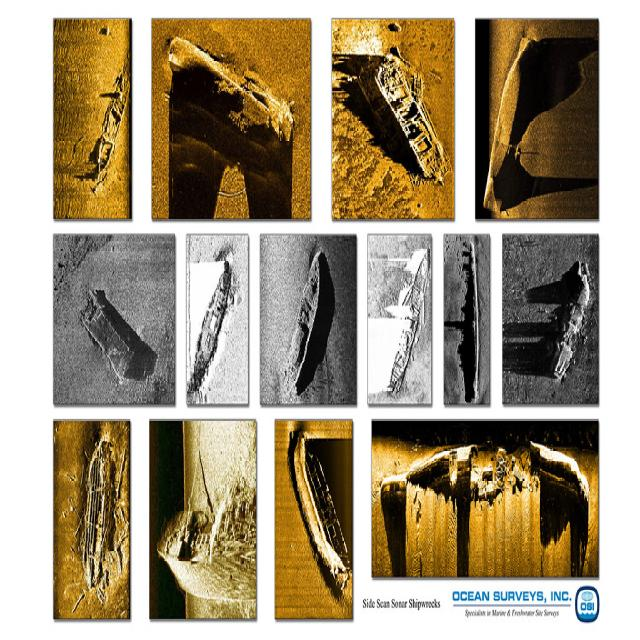ship: (380, 429, 589, 543), (167, 36, 295, 144), (357, 46, 450, 188), (154, 480, 255, 602), (290, 426, 351, 594), (482, 40, 534, 212), (186, 251, 236, 396), (282, 248, 330, 396), (388, 245, 432, 394), (78, 281, 134, 383), (80, 436, 114, 596), (550, 260, 592, 382), (92, 53, 128, 191), (460, 240, 482, 404)
